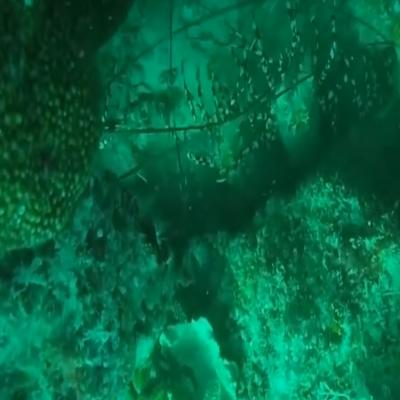lobster: (213, 86, 262, 196), (275, 45, 321, 158)
